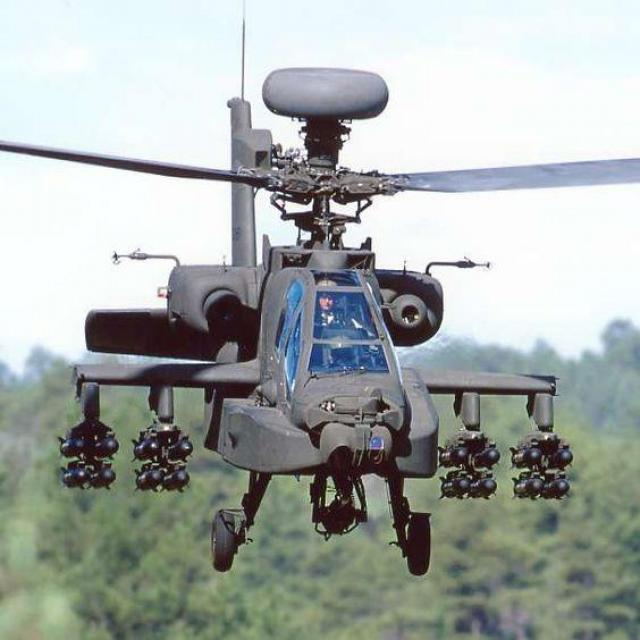MIL_HELO: (3, 52, 640, 573)
